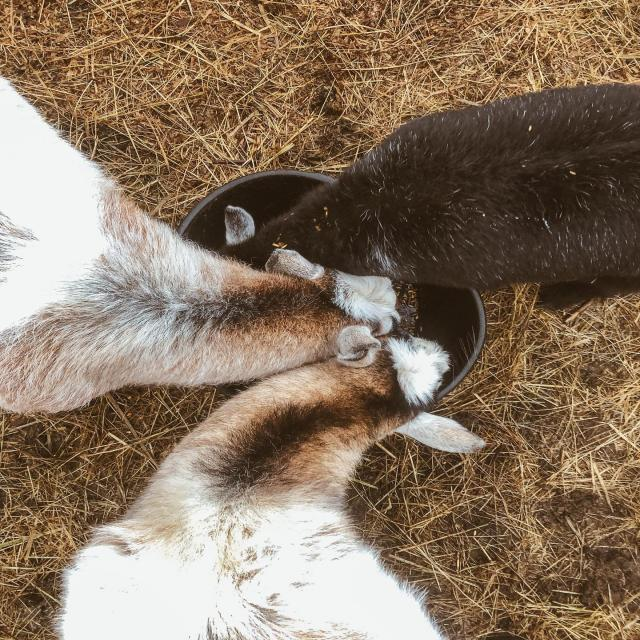goat: (0, 68, 395, 412)
